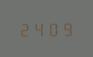four: (32, 20, 45, 37)
nine: (60, 19, 73, 36)
two: (18, 20, 31, 37)
zero: (46, 19, 59, 36)
